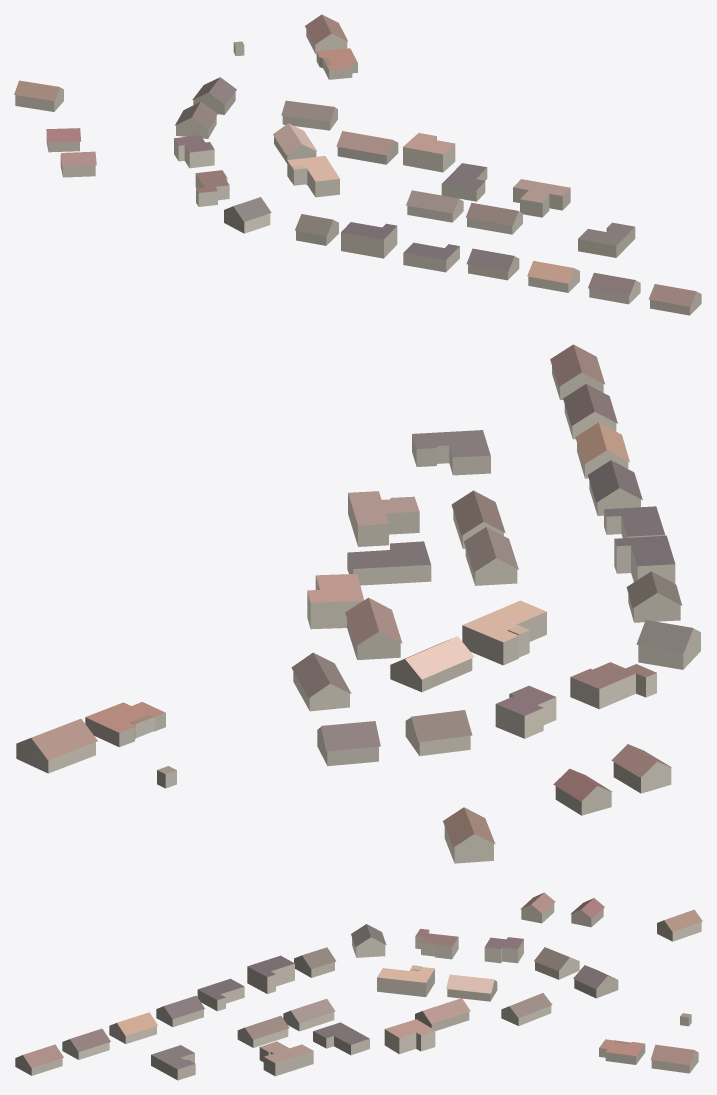
3 renders of one model, top to bottom at view 1: azimuth 30°, elevation 25°; view 2: azimuth 150°, elevation 25°; view 3: azimuth 270°, elevation 25°, orthographic. The views are drawn at different scales.
Parts seen in each view (by area): view 1: tuile; view 2: tuile; view 3: tuile.
Boxes of the visible parts, x1,y1,x2,y2 form: tuile: (14, 14, 701, 315); tuile: (16, 344, 700, 863); tuile: (15, 892, 702, 1080).
Size of the model in its own units: 139 by 11.67 by 244.
